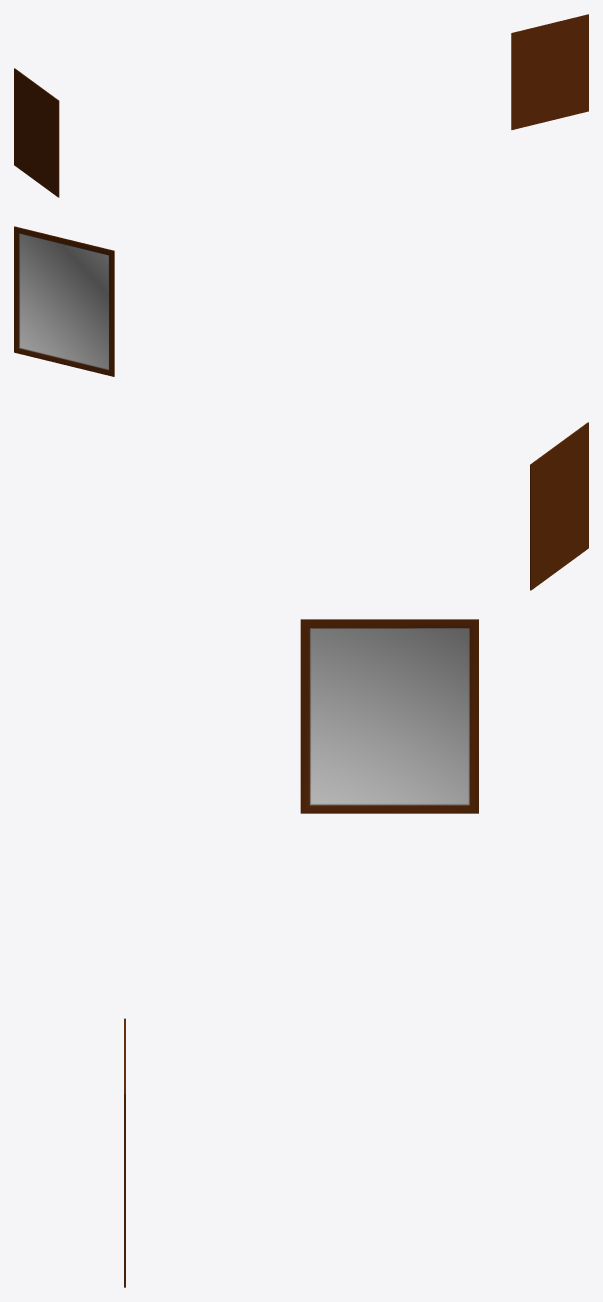
Rendered from frames.obj.
3 views of the same model, one above another, from view 1: azimuth 30°, elevation 25°; view 2: azimuth 150°, elevation 25°; view 3: azimuth 270°, elevation 25° (orthographic). The views are drawn at different scales.
Parts seen in each view (by area): view 1: object 1; view 2: object 1, extrudeFront; view 3: extrudeFront, object 1.
Part boxes in pixels (<box>): object 1: <box>14,14,588,197</box>; object 1: <box>14,226,588,590</box>; extrudeFront: <box>20,234,108,368</box>; extrudeFront: <box>311,629,468,803</box>; object 1: <box>124,619,478,1287</box>.
Size of the model in its own units: 1.05 by 0.2 by 0.3319.
